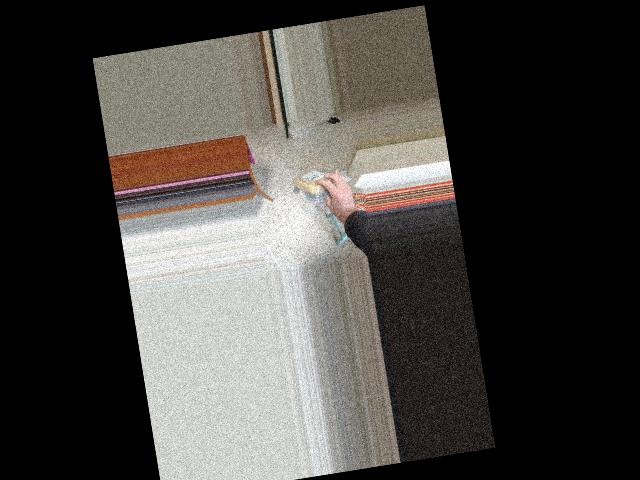cheese: (290, 166, 345, 199)
